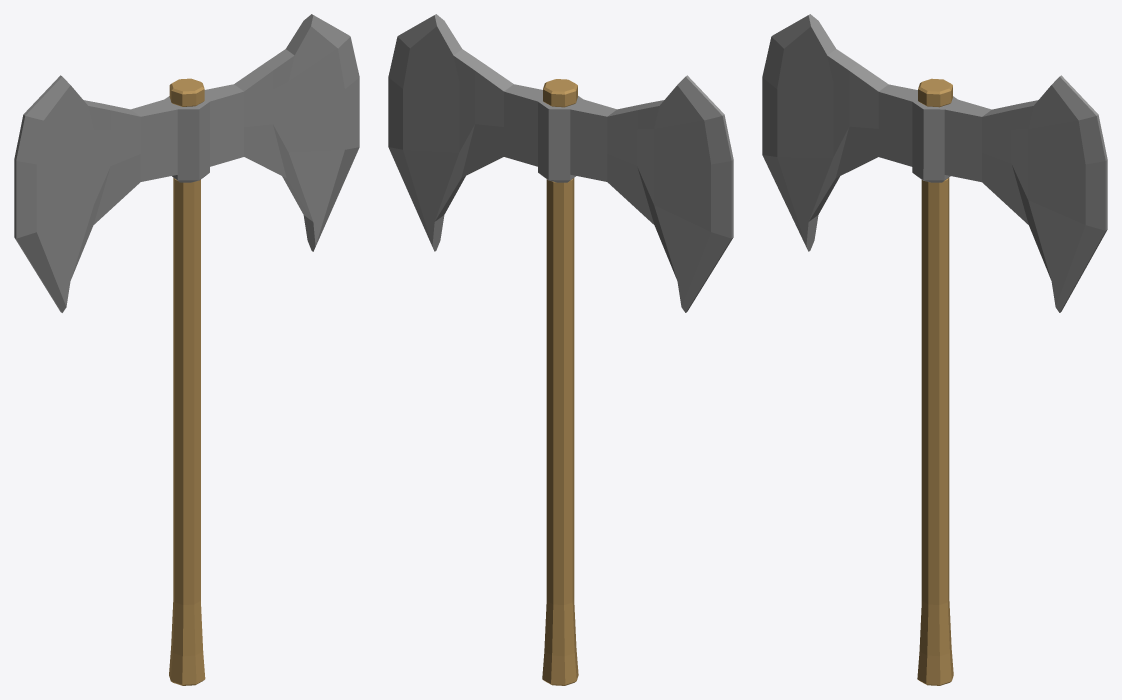
File: Axe.fbx
3 views of the same model, side by side, from view 1: azimuth 30°, elevation 25°; view 2: azimuth 150°, elevation 25°; view 3: azimuth 330°, elevation 25° (orthographic).
Visible parts, largest first — view 1: Axe; view 2: Axe; view 3: Axe.
Boxes of the visible parts, x1,y1,x2,y2 form: Axe: (14, 14, 359, 685); Axe: (388, 14, 733, 685); Axe: (762, 14, 1107, 685).
Bounding box in the file's own units: 0.4276 × 0.7543 × 0.0513.
